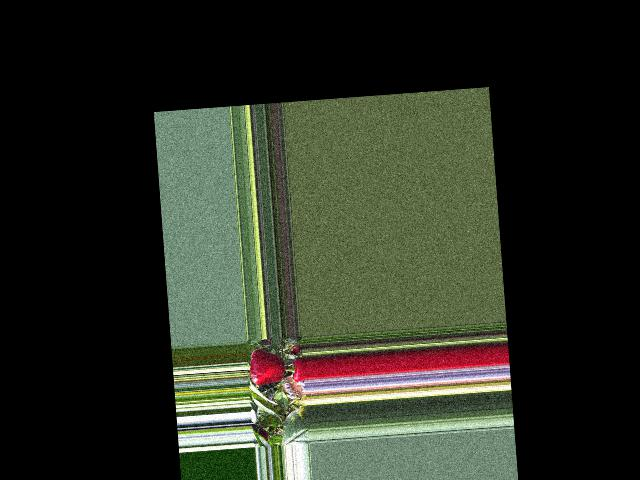bell_pepper: (289, 355, 305, 384)
